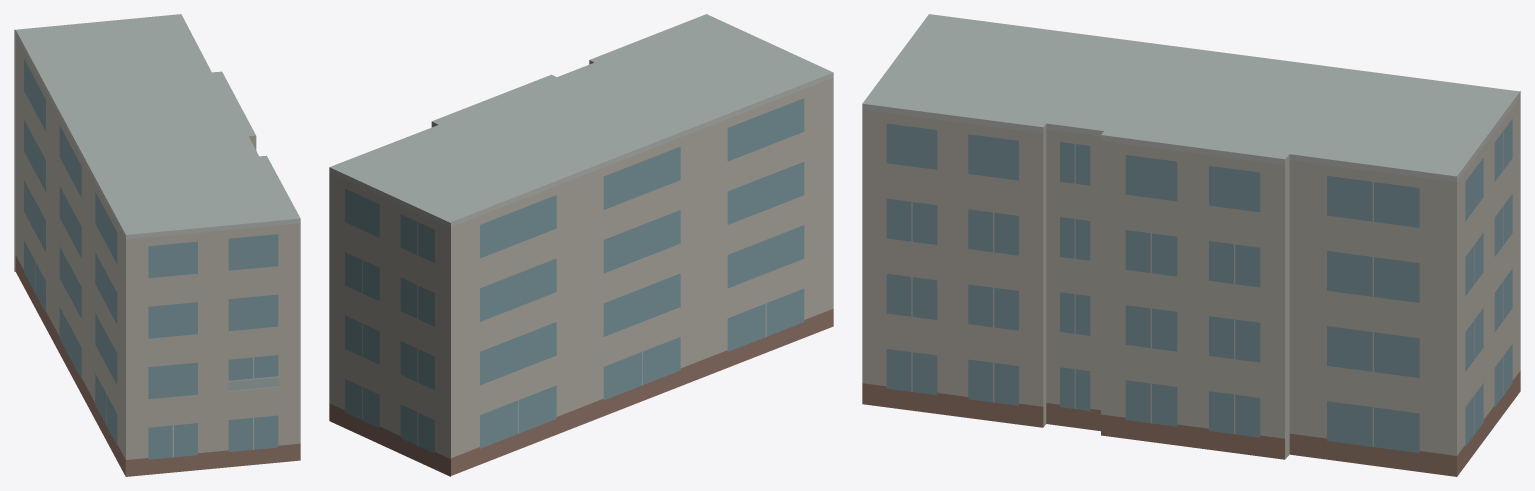
File: survey-upis-32808260.glb
The picture shows the model from 3 angles, left to right: view 1: azimuth 30°, elevation 25°; view 2: azimuth 150°, elevation 25°; view 3: azimuth 270°, elevation 25°; orthographic projection. The views are drawn at different scales.
Parts seen in each view (by area): view 1: survey-upis-32808260.tmp; view 2: survey-upis-32808260.tmp; view 3: survey-upis-32808260.tmp.
Boxes of the visible parts, x1,y1,x2,y2 form: survey-upis-32808260.tmp: (14, 14, 300, 476); survey-upis-32808260.tmp: (329, 14, 833, 476); survey-upis-32808260.tmp: (862, 14, 1520, 476).
Bounding box in the file's own units: 14.51 × 12.5 × 24.84.
